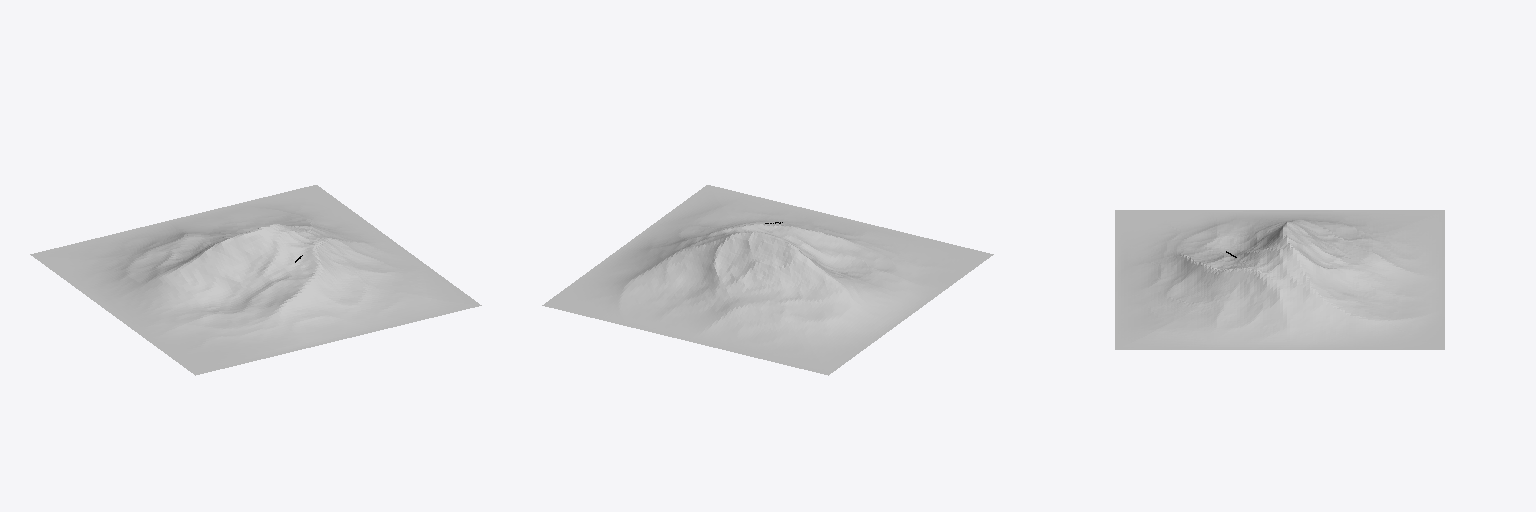
The model's file is wip_04.obj.
3 views of the same model, side by side, from view 1: azimuth 30°, elevation 25°; view 2: azimuth 150°, elevation 25°; view 3: azimuth 270°, elevation 25° (orthographic).
Parts seen in each view (by area): view 1: Default.1; view 2: Default.1; view 3: Default.1.
Boxes of the visible parts, x1,y1,x2,y2 form: Default.1: [30, 185, 481, 375]; Default.1: [542, 185, 993, 375]; Default.1: [1115, 210, 1444, 349].
Size of the model in its own units: 600 by 96.29 by 600.